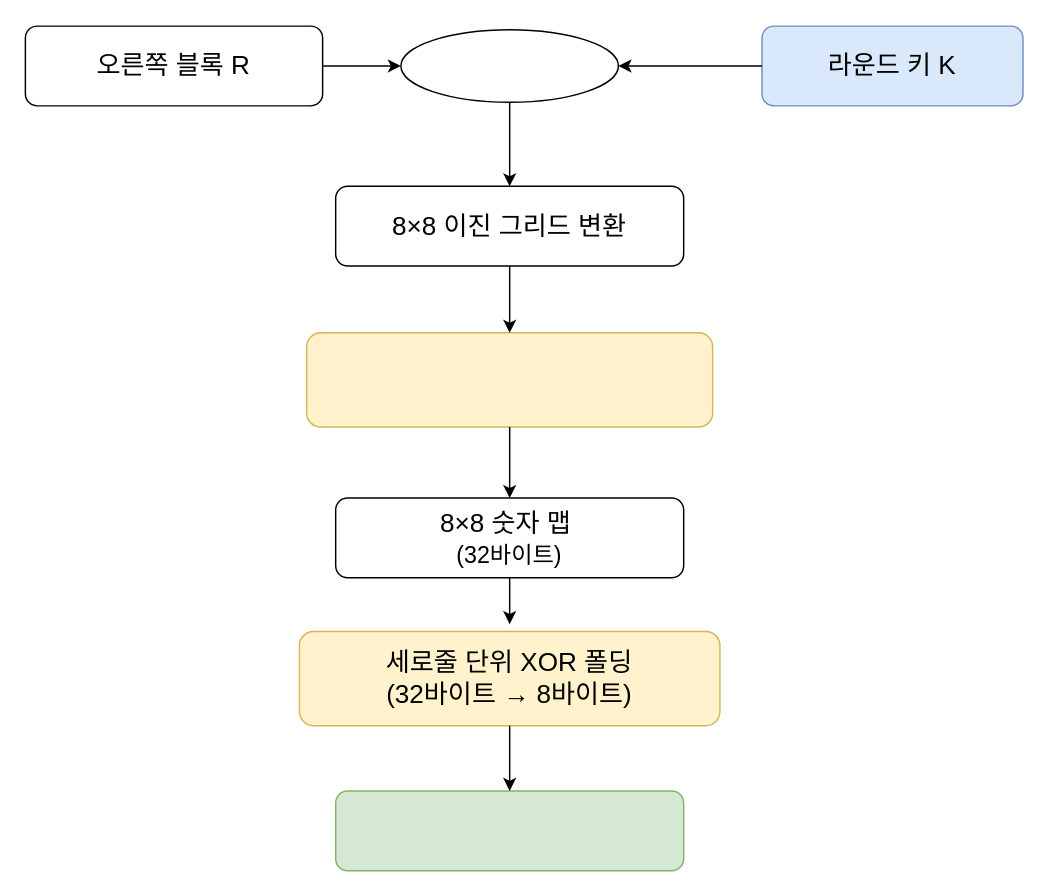
Some shapes in this 1048 by 896 pixel diagram are drawn without their labels. Each missing label, with the centre of its shape:
"F(R, K) 출력" goes at (509,830).
"XOR 연산 R ⊕ K" goes at (508,65).
"지뢰찾기 인접 숫자 변환" goes at (509,379).
